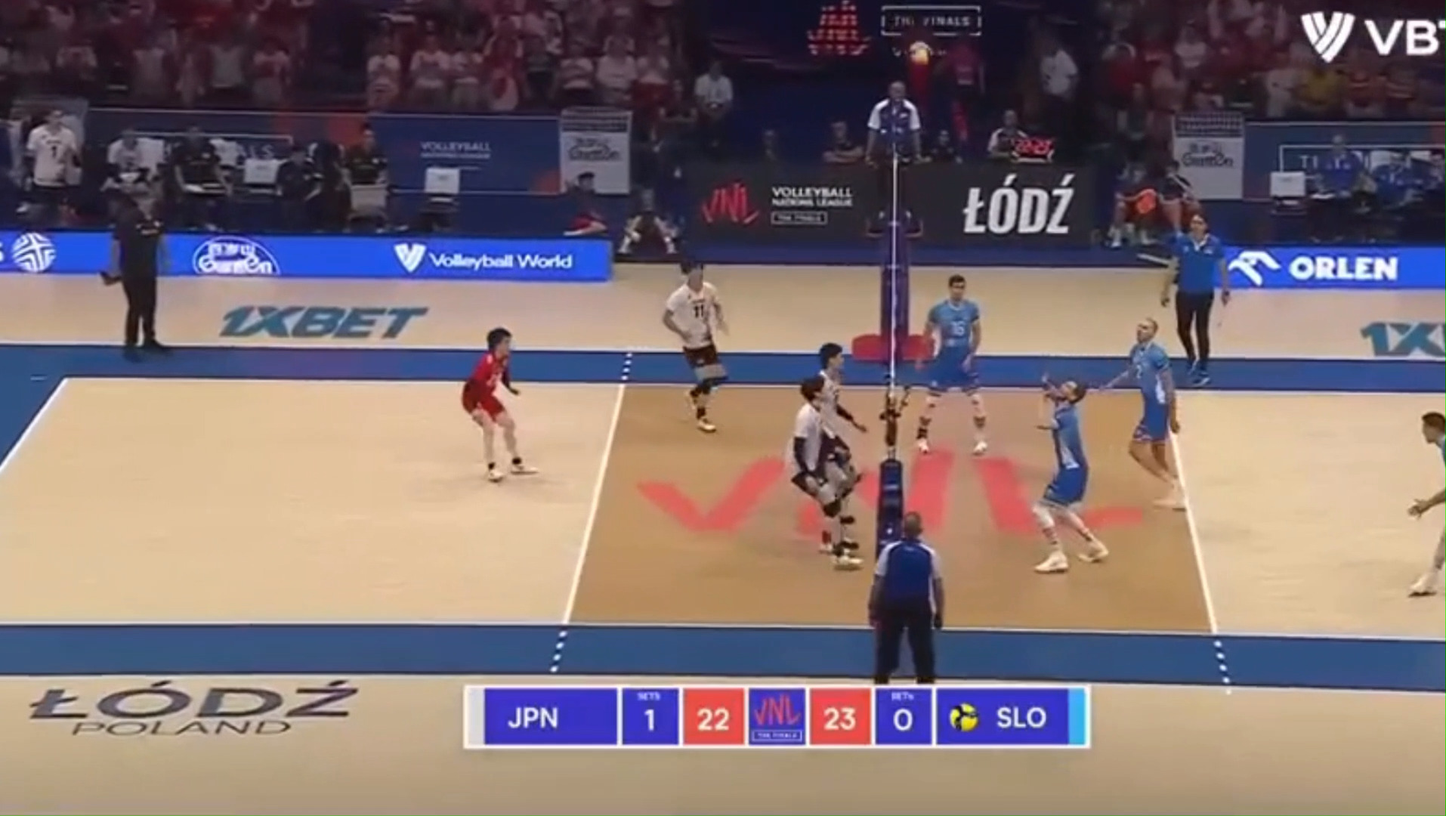ball: (909, 42, 932, 66)
player: (1031, 377, 1108, 573), (1105, 319, 1183, 509), (915, 274, 987, 456), (1409, 532, 1445, 596), (1422, 412, 1445, 468), (1408, 487, 1445, 518)
player 1: (786, 376, 862, 569), (461, 327, 534, 481), (662, 263, 727, 433), (819, 343, 866, 497)
referee: (868, 512, 944, 685), (103, 196, 167, 357), (1173, 215, 1230, 383), (865, 81, 921, 234)
